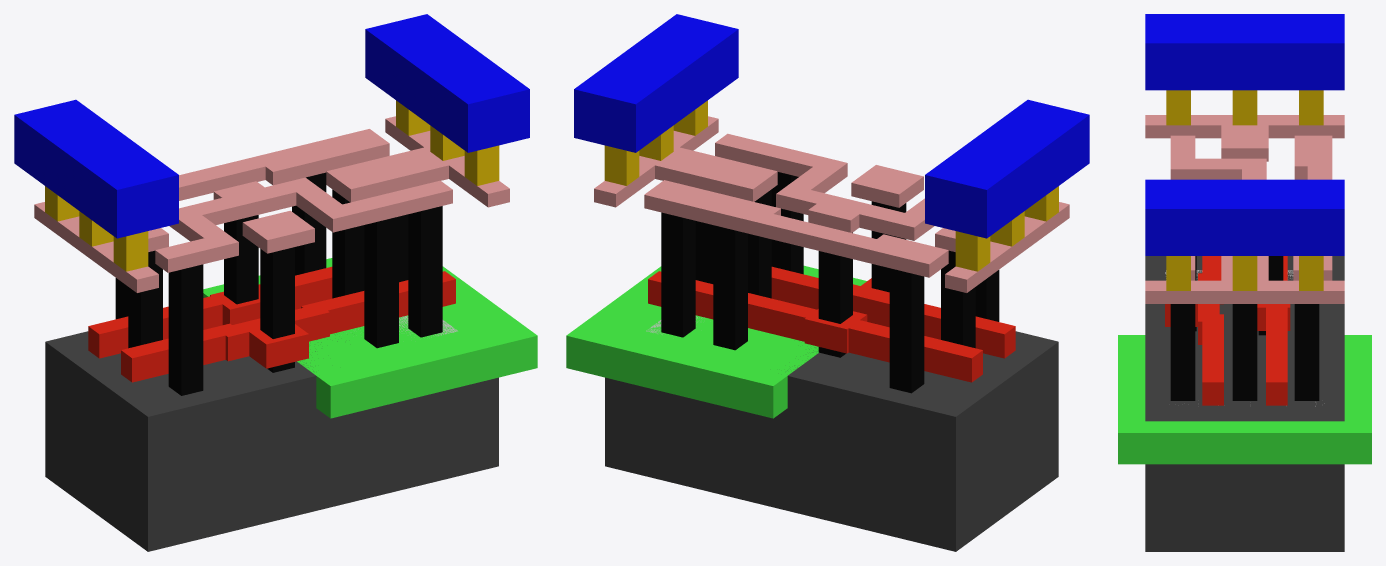
File: sky130_fd_sc_hd__clkbuf_1.obj
3 views of the same model, side by side, from view 1: azimuth 30°, elevation 25°; view 2: azimuth 150°, elevation 25°; view 3: azimuth 270°, elevation 25° (orthographic). The views are drawn at different scales.
Visible parts, largest first — view 1: subs, metal1, li, licon, nwell, poly, mcon; view 2: subs, metal1, li, licon, nwell, poly, mcon; view 3: metal1, subs, nwell, li, licon, poly, mcon.
Part boxes in pixels (x1,y1,x2,y2): subs: (45, 331, 498, 551); metal1: (14, 14, 529, 238); li: (34, 116, 509, 292); licon: (115, 172, 442, 395); nwell: (203, 258, 537, 418); poly: (88, 266, 455, 382); mcon: (45, 100, 499, 271); subs: (605, 331, 1058, 551); metal1: (574, 14, 1089, 238); li: (594, 116, 1069, 292); licon: (661, 172, 999, 393); nwell: (566, 265, 866, 418); poly: (648, 266, 1015, 382); mcon: (604, 100, 1058, 271); metal1: (1145, 14, 1344, 255); subs: (1145, 256, 1344, 551); nwell: (1118, 335, 1371, 464); li: (1145, 115, 1344, 303); licon: (1170, 256, 1319, 400); poly: (1165, 256, 1290, 405); mcon: (1166, 90, 1323, 290).
Bounding box in the file's own units: 3.2 × 2.74 × 1.76.
